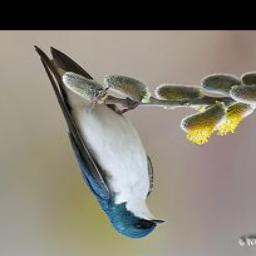Swallow: (33, 43, 166, 239)
